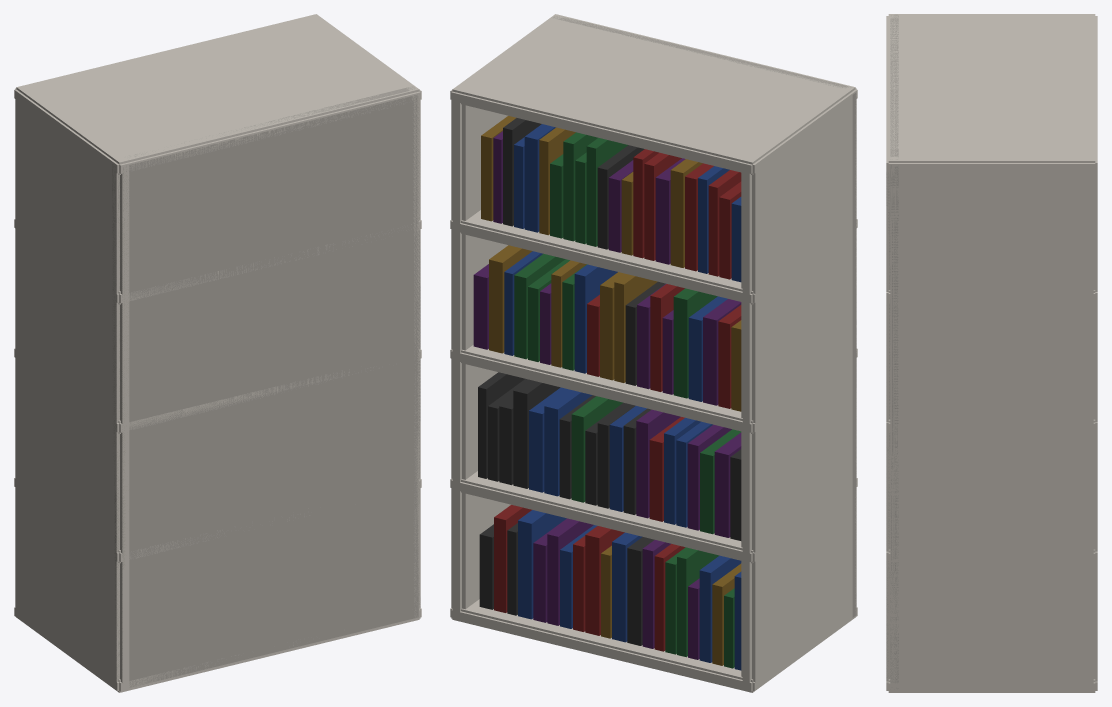
File: marble_bookcase_v0.glb
3 views of the same model, side by side, from view 1: azimuth 30°, elevation 25°; view 2: azimuth 150°, elevation 25°; view 3: azimuth 270°, elevation 25° (orthographic).
Visible parts, largest first — view 1: marble_bookcase_v0; view 2: marble_bookcase_v0; view 3: marble_bookcase_v0.
Boxes of the visible parts, x1=… form: marble_bookcase_v0: x1=14, y1=14, x2=421, y2=692; marble_bookcase_v0: x1=450, y1=14, x2=857, y2=692; marble_bookcase_v0: x1=886, y1=14, x2=1097, y2=692.
Bounding box in the file's own units: 1.5 × 2.5 × 0.9.
